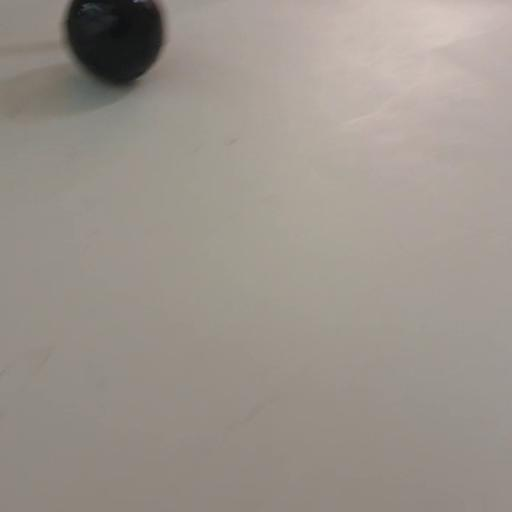dead: (65, 0, 164, 84)
